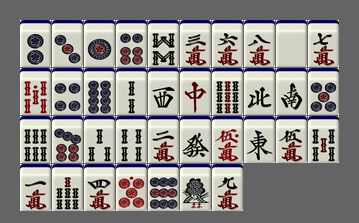0m: (212, 116, 243, 163)
0p: (116, 164, 147, 211)
0s: (20, 68, 51, 115)
1m: (20, 164, 51, 211)
1p: (84, 20, 115, 67)
1s: (180, 164, 211, 211)
1z: (244, 116, 275, 163)
2m: (148, 116, 179, 163)
2p: (20, 20, 51, 67)
2s: (116, 68, 147, 115)
2z: (276, 68, 307, 115)
3m: (180, 20, 211, 67)
3p: (52, 20, 83, 67)
3s: (84, 116, 115, 163)
3z: (148, 68, 179, 115)
4m: (84, 164, 115, 211)
4p: (52, 68, 83, 115)
4s: (116, 116, 147, 163)
4z: (244, 68, 275, 115)
5m: (276, 116, 307, 163)
5p: (308, 68, 339, 115)
5s: (308, 116, 339, 163)
5z: (276, 20, 307, 67)
6m: (212, 20, 243, 67)
6p: (116, 20, 147, 67)
6s: (20, 116, 51, 163)
6z: (180, 116, 211, 163)
7m: (308, 20, 339, 67)
7p: (52, 116, 83, 163)
7s: (52, 164, 83, 211)
7z: (180, 68, 211, 115)
8m: (244, 20, 275, 67)
8p: (84, 68, 115, 115)
8s: (148, 20, 179, 67)
9m: (212, 164, 243, 211)
9p: (148, 164, 179, 211)
9s: (212, 68, 243, 115)
